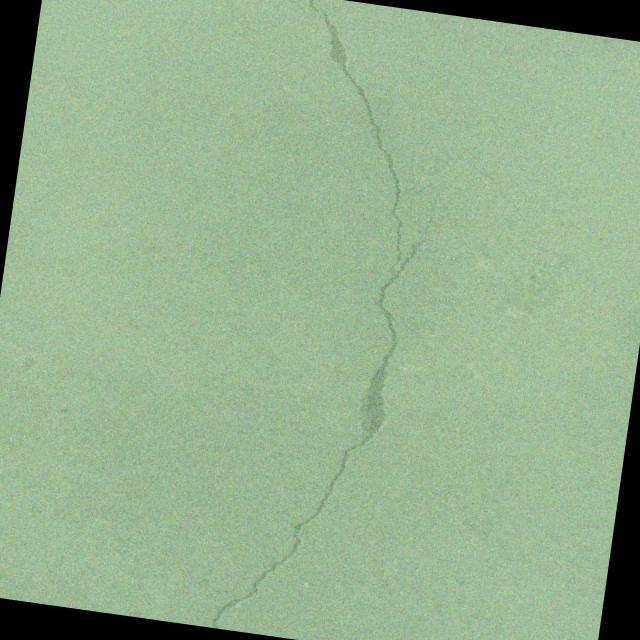crack: (210, 0, 463, 640)
